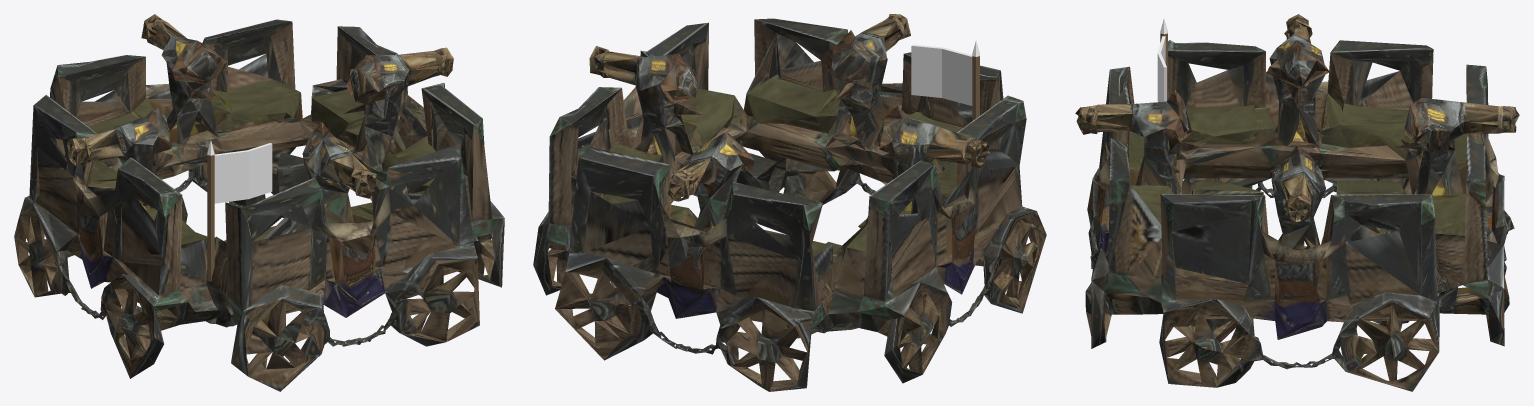
3 views of the same model, side by side, from view 1: azimuth 30°, elevation 25°; view 2: azimuth 150°, elevation 25°; view 3: azimuth 270°, elevation 25° (orthographic). The views are drawn at different scales.
Visible parts, largest first — view 1: steppe_gun_laager, Team_banner; view 2: steppe_gun_laager, Team_banner; view 3: steppe_gun_laager, Team_banner.
Boxes of the visible parts, bbox=[...] form: steppe_gun_laager: bbox=[14, 14, 504, 391]; Team_banner: bbox=[207, 140, 272, 281]; steppe_gun_laager: bbox=[533, 14, 1046, 391]; Team_banner: bbox=[911, 40, 979, 120]; steppe_gun_laager: bbox=[1075, 14, 1519, 391]; Team_banner: bbox=[1157, 18, 1167, 101].
Bounding box in the file's own units: 1.89 × 1.12 × 1.9.
Materials: 3 (1 with a texture image).
